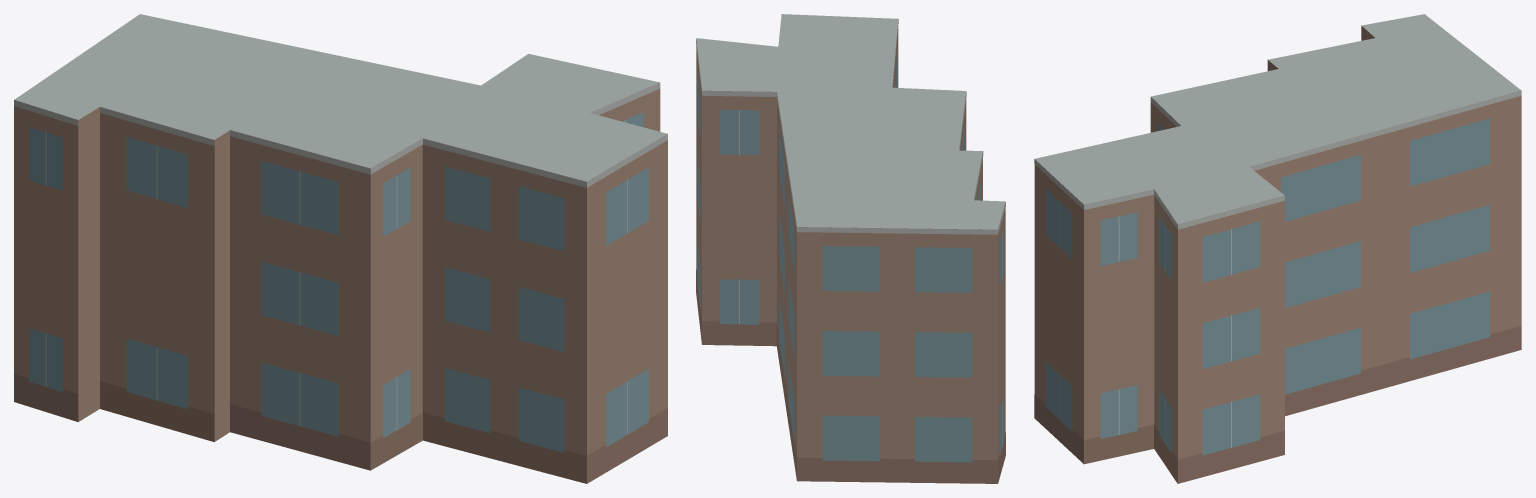
Rendered from survey-upis-32470577.glb.
The picture shows the model from 3 angles, left to right: view 1: azimuth 30°, elevation 25°; view 2: azimuth 150°, elevation 25°; view 3: azimuth 270°, elevation 25°; orthographic projection. The views are drawn at different scales.
Parts seen in each view (by area): view 1: survey-upis-32470577.tmp; view 2: survey-upis-32470577.tmp; view 3: survey-upis-32470577.tmp.
Boxes of the visible parts, x1=… form: survey-upis-32470577.tmp: x1=14, y1=14, x2=667, y2=483; survey-upis-32470577.tmp: x1=696, y1=14, x2=1005, y2=483; survey-upis-32470577.tmp: x1=1034, y1=14, x2=1521, y2=483.
Bounding box in the file's own units: 20.89 × 12 × 20.43.
